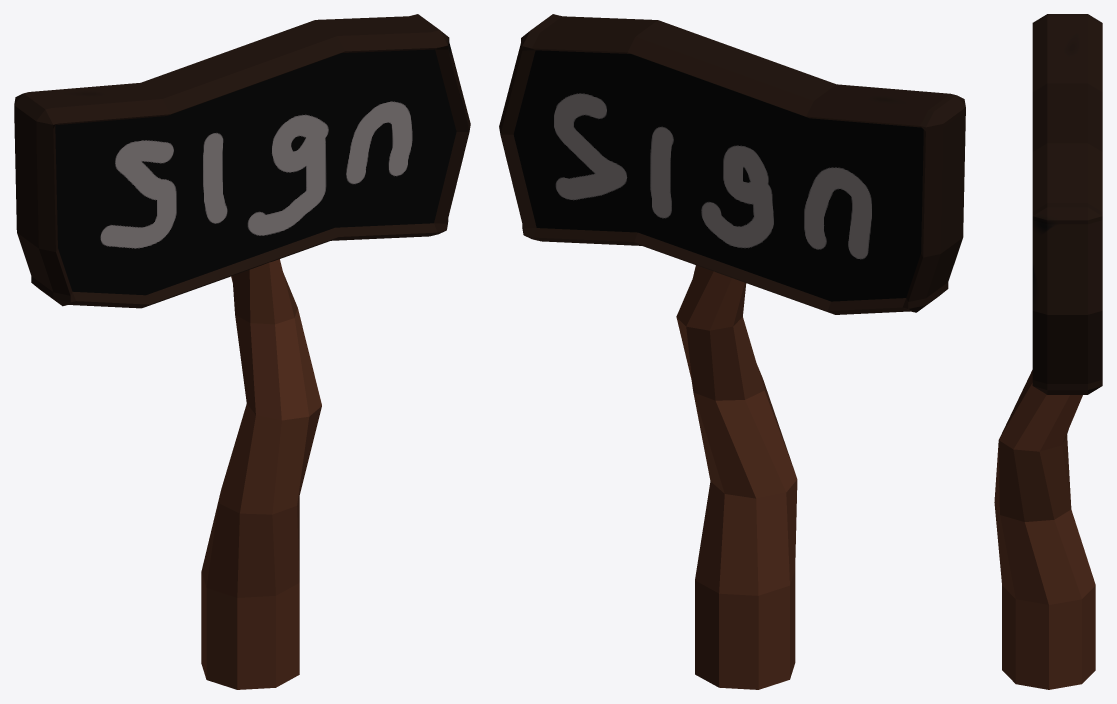
Rendered from Signpost.fbx.
3 views of the same model, side by side, from view 1: azimuth 30°, elevation 25°; view 2: azimuth 150°, elevation 25°; view 3: azimuth 270°, elevation 25° (orthographic). The views are drawn at different scales.
Visible parts, largest first — view 1: Cube, Cylinder; view 2: Cube, Cylinder; view 3: Cube, Cylinder.
Boxes of the visible parts, x1=… form: Cube: x1=14, y1=14, x2=470, y2=308; Cylinder: x1=201, y1=259, x2=321, y2=689; Cube: x1=499, y1=14, x2=965, y2=314; Cylinder: x1=676, y1=265, x2=797, y2=689; Cube: x1=1032, y1=14, x2=1102, y2=394; Cylinder: x1=994, y1=370, x2=1095, y2=689.
Size of the model in its own units: 988 by 1332 by 231.
Materials: 2 (2 with a texture image).
